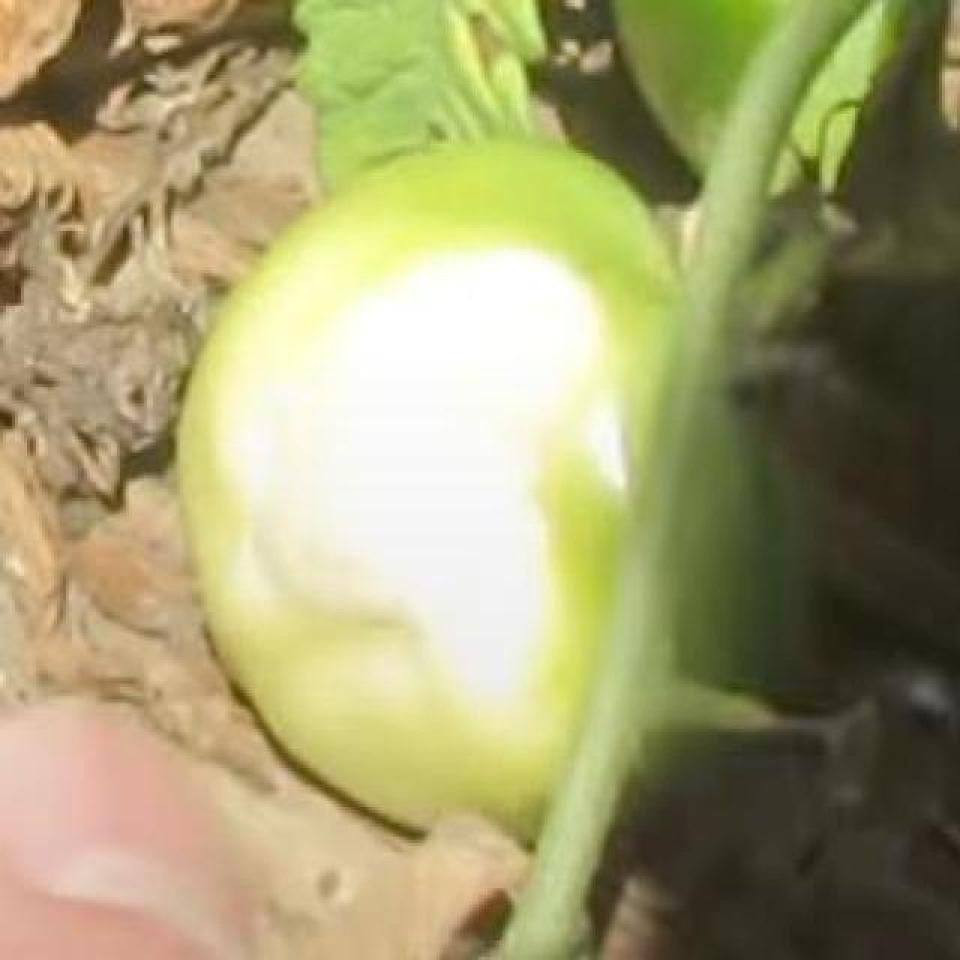Sunscald: (188, 219, 595, 767)
